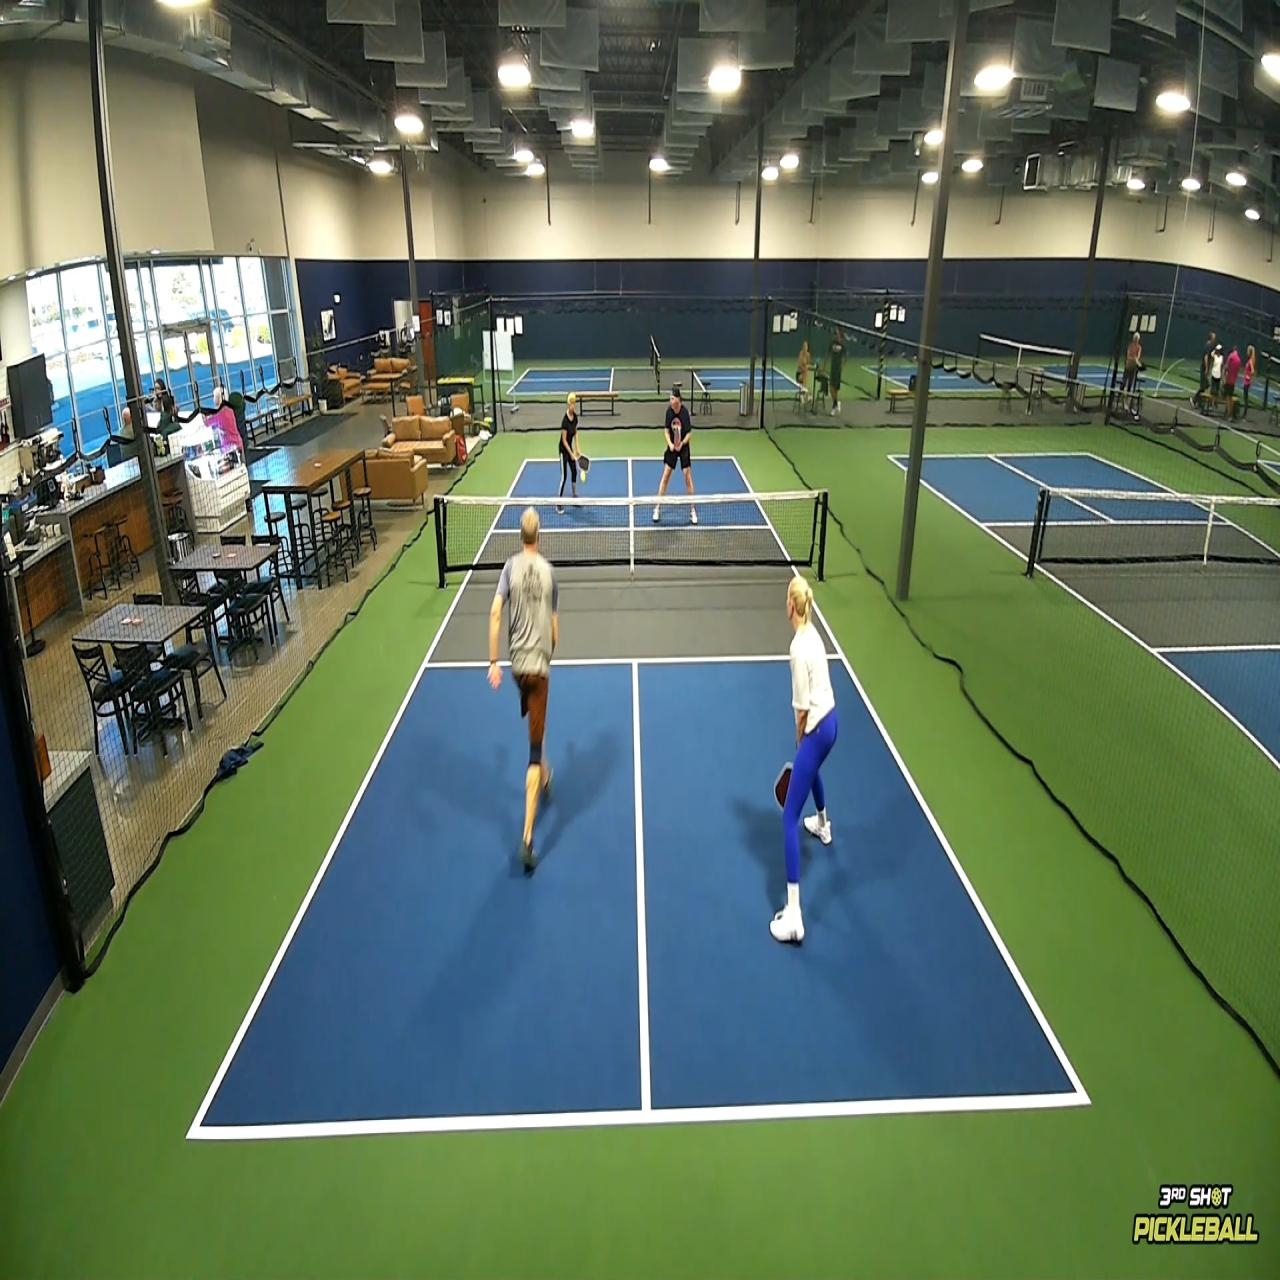Pickleball: (579, 468, 587, 484)
